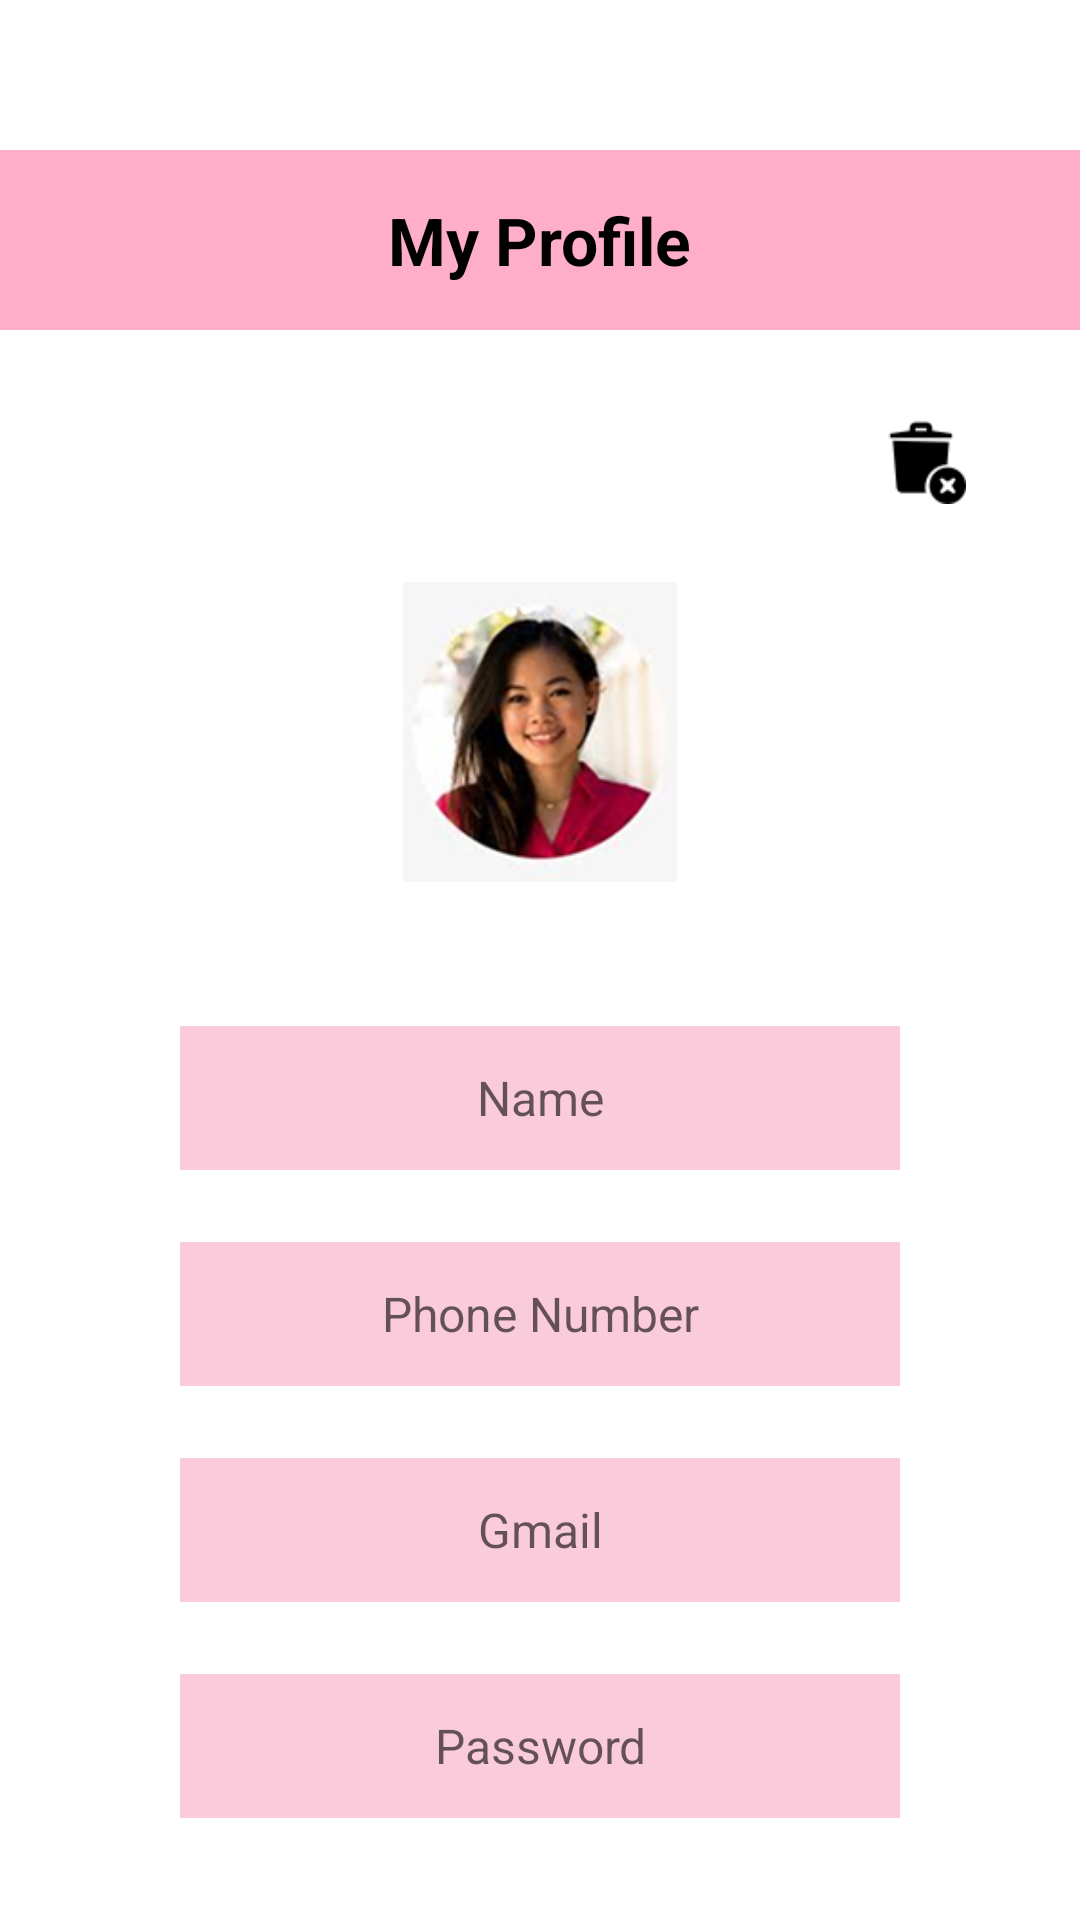

Locate icon controls on the screen. Image size 1080px×1920px, boxes as {"left": x1, "top": y1, "right": x2, "bottom": y2}.
delete: {"left": 889, "top": 421, "right": 966, "bottom": 504}
userprofile: {"left": 424, "top": 606, "right": 659, "bottom": 860}
